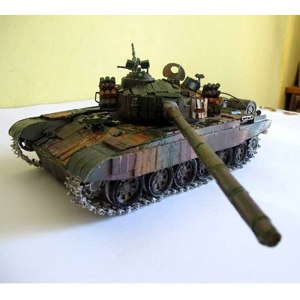Battle Tank: (8, 57, 282, 256)
